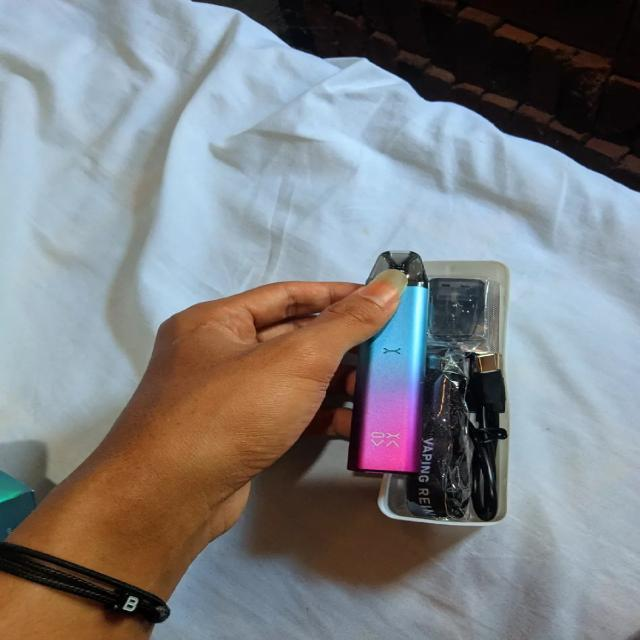Hazard: (349, 244, 432, 478)
